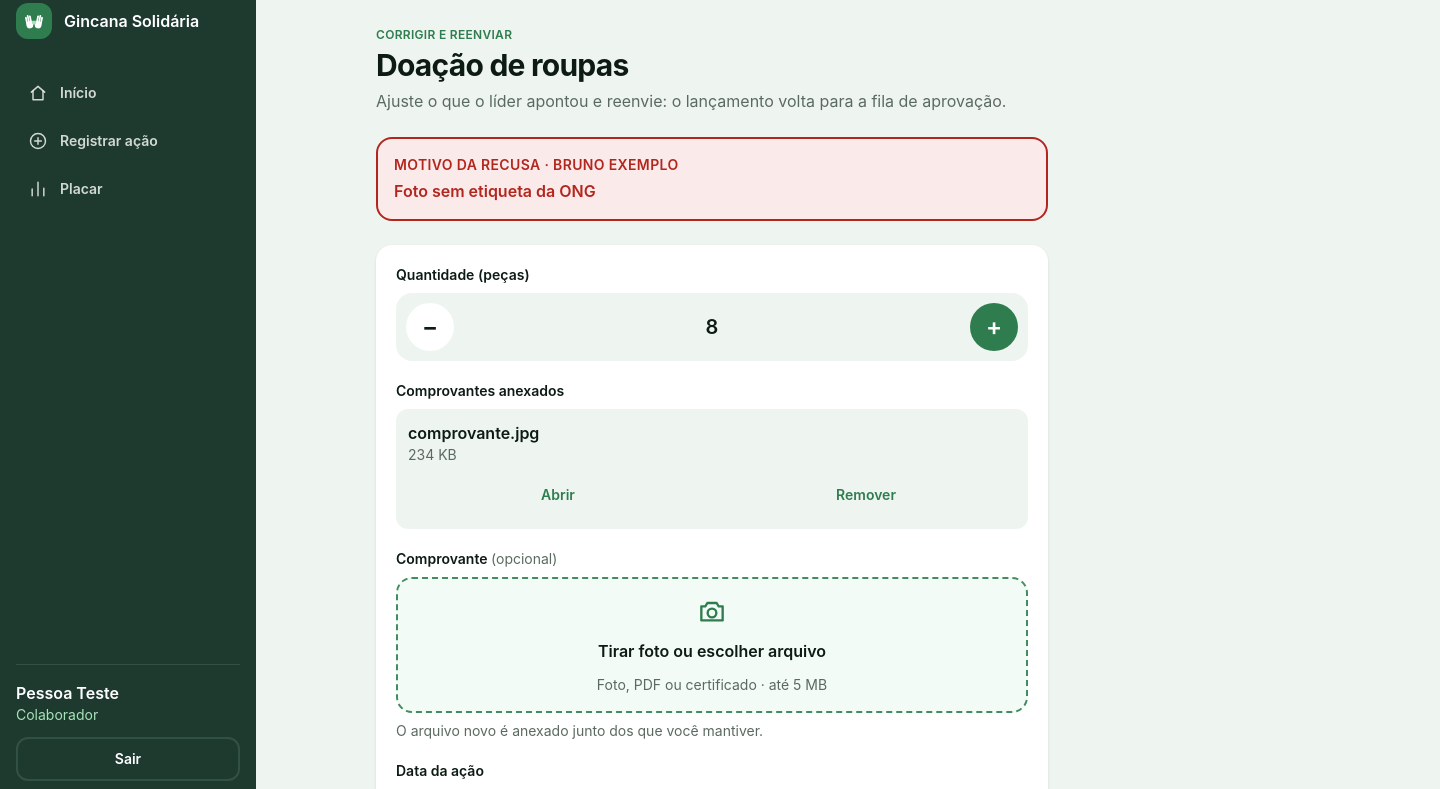
Test: Corrigir e reenviar (US06 e US10) › o lançamento recusado › deixa desistir de remover um comprovante antes de reenviar
Expected: the heading "Doação de roupas" is shown, [376,47,628,83]
Click the button with aria-label "Remover o comprovante comprovante.jpg" at (866, 494), box [716,472,1016,516]
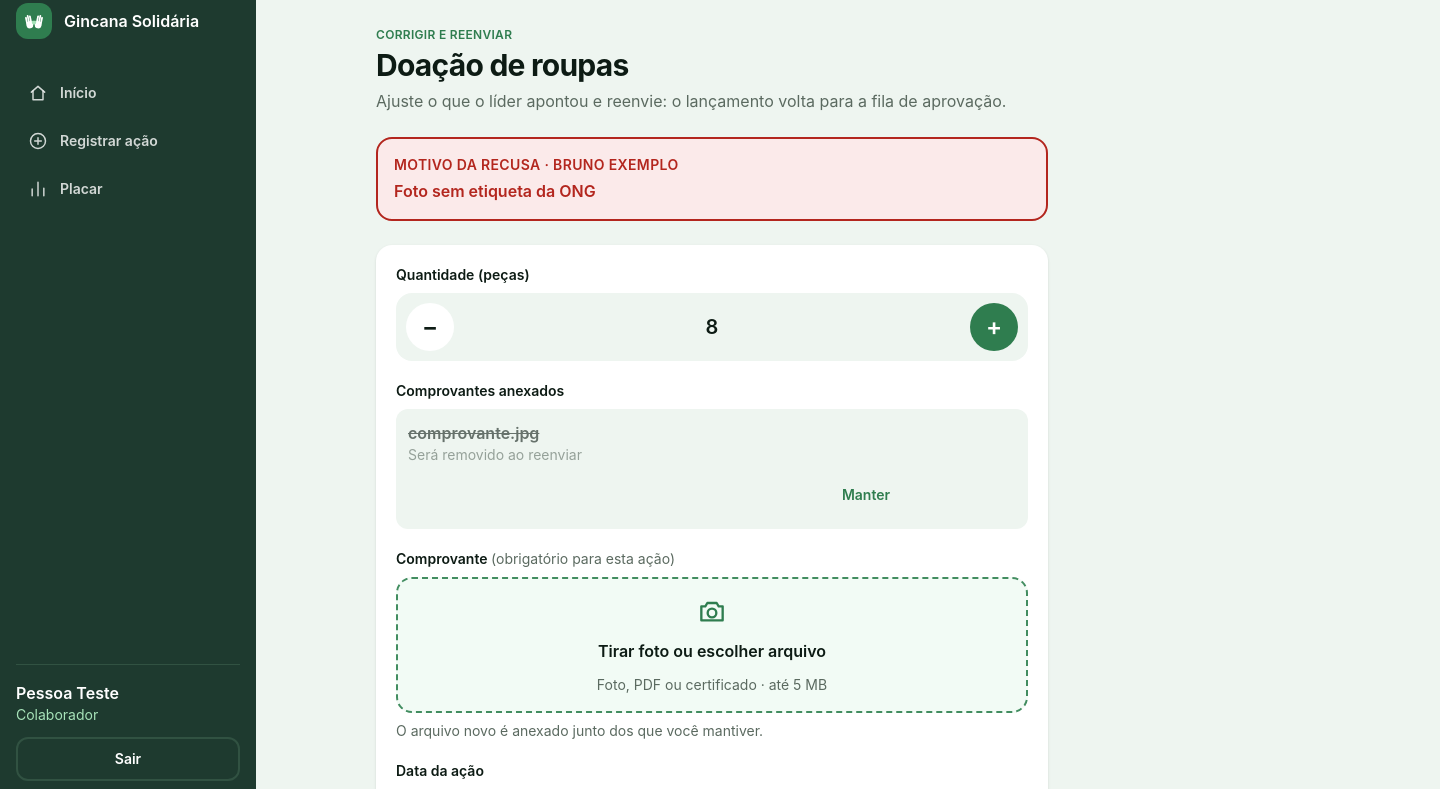
Click the button with aria-label "Manter o comprovante comprovante.jpg" at (866, 494), box [716,472,1016,516]
(page scrolled)
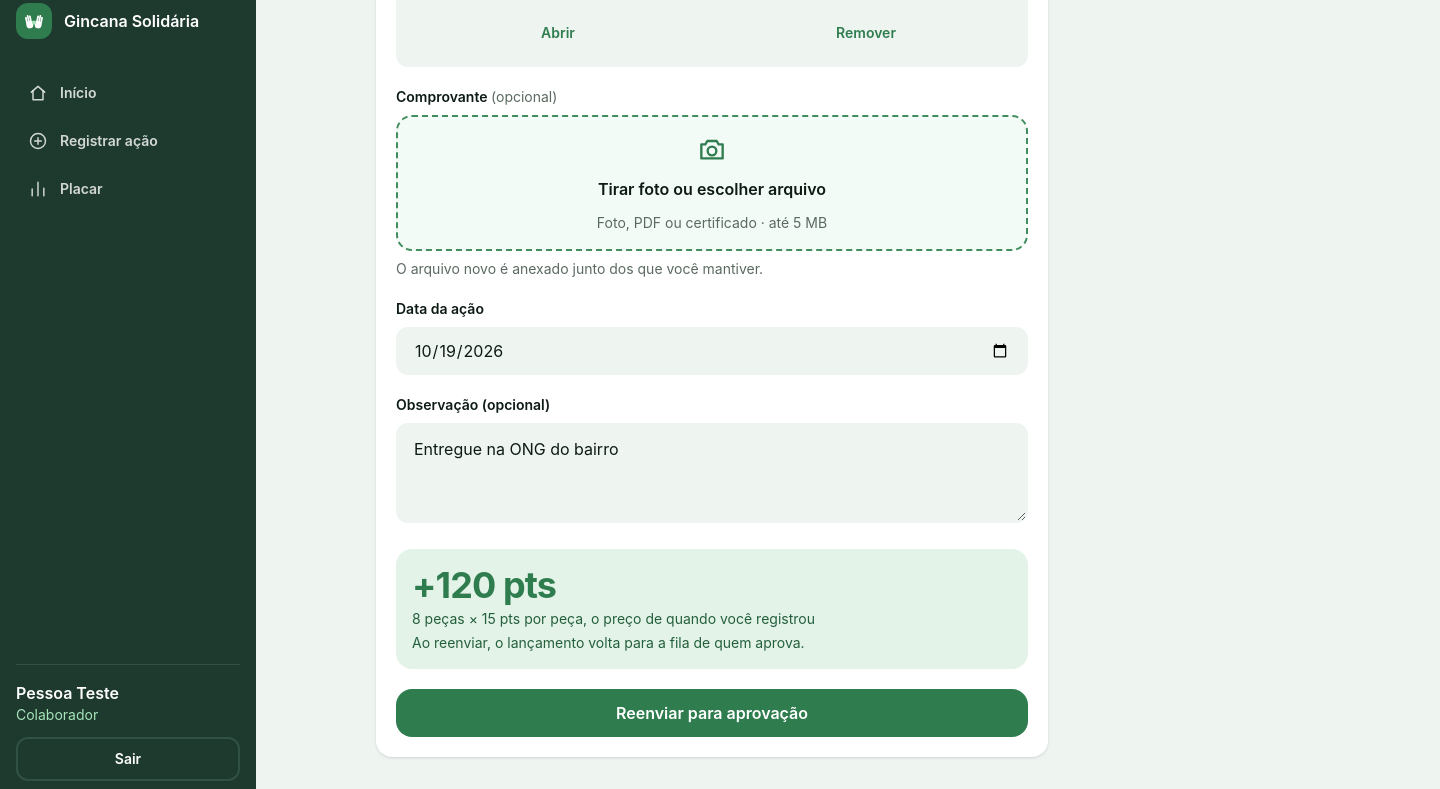
Click the button "Reenviar para aprovação" at (712, 712), box [396,688,1028,736]
(page scrolled)
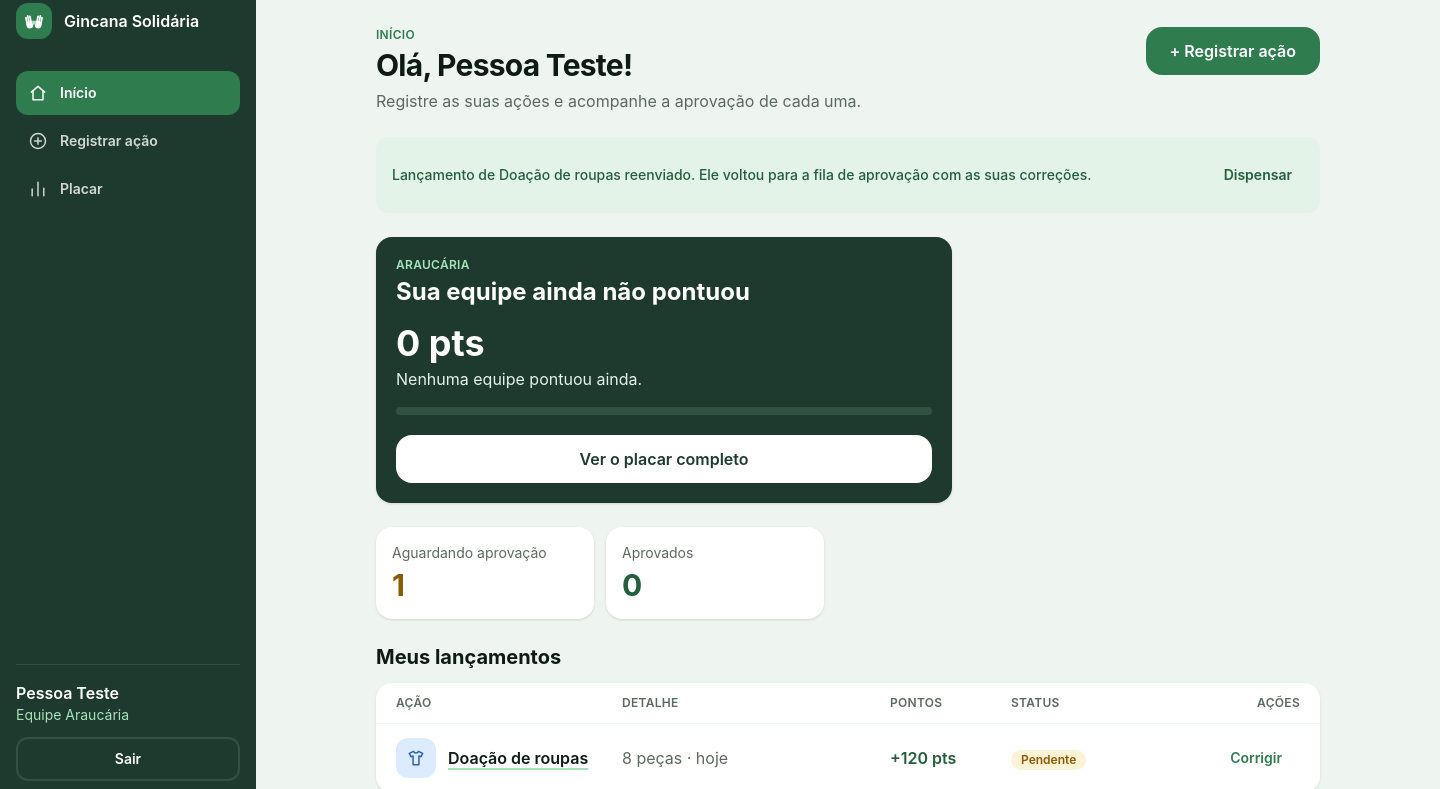
Expected: the text "reenviado" is shown, [392,166,1092,182]
